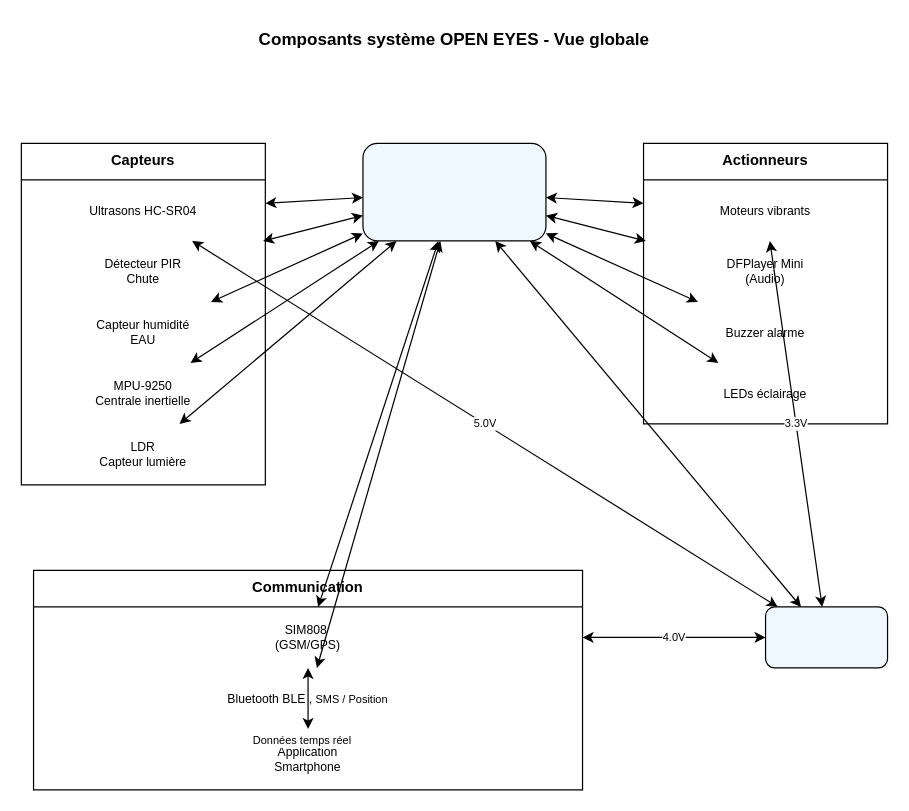
This 909x811 diagram has some shape labels left out. Each missing label, with the centre of its shape:
"Alimentation" goes at (826,637).
"ESP32 Microcontrôleur" goes at (454,191).
